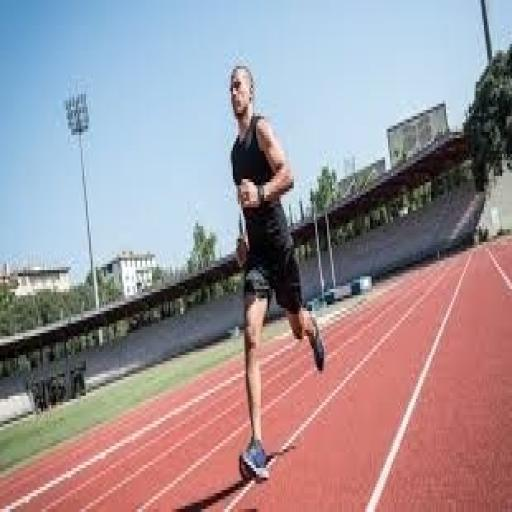running: (224, 60, 328, 487)
